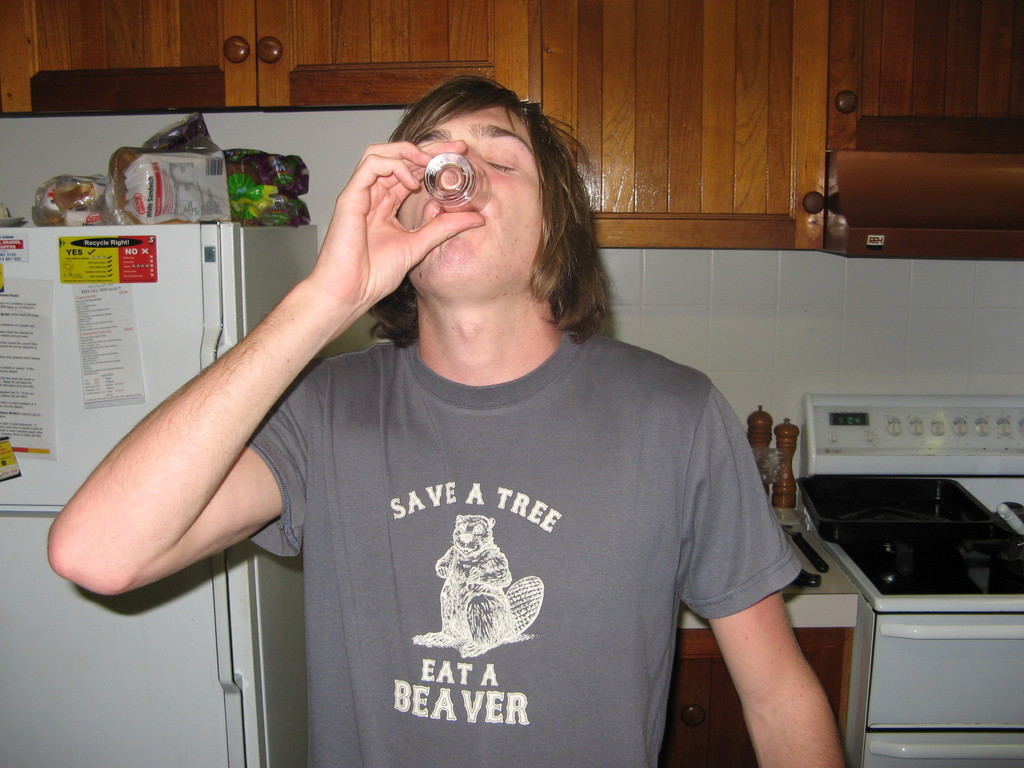Human_hand: (259, 148, 431, 347)
